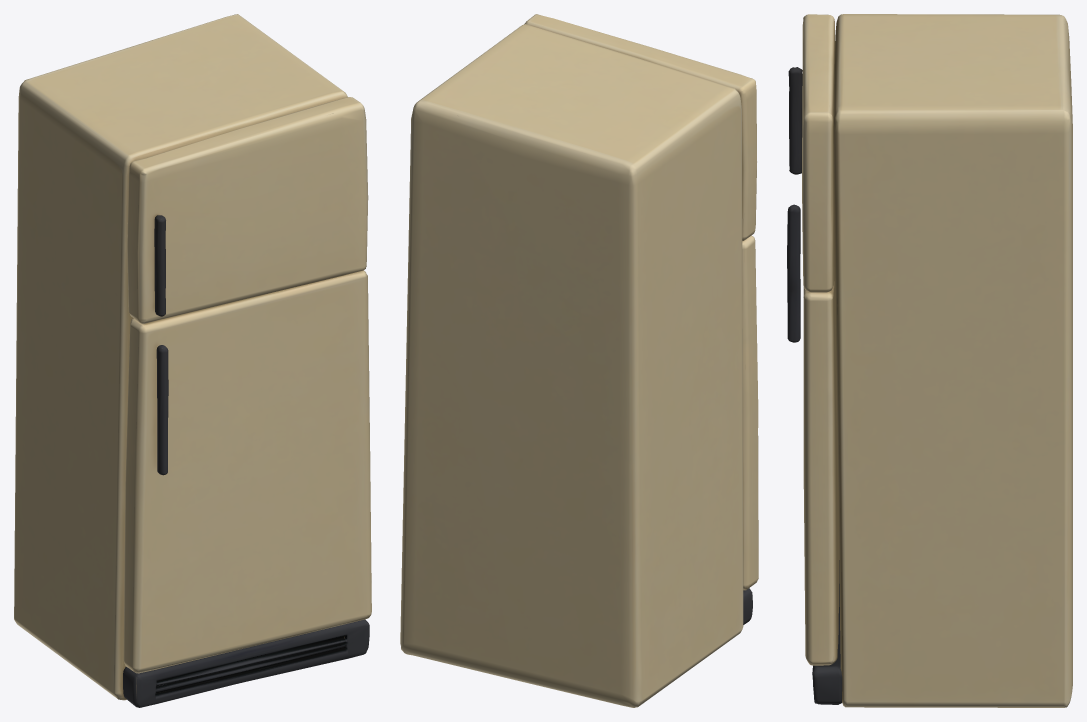
The model's file is apartment-fridge.glb.
3 views of the same model, side by side, from view 1: azimuth 30°, elevation 25°; view 2: azimuth 150°, elevation 25°; view 3: azimuth 270°, elevation 25° (orthographic). The views are drawn at different scales.
Visible parts, largest first — view 1: geometry_0; view 2: geometry_0; view 3: geometry_0.
Boxes of the visible parts, x1=… form: geometry_0: x1=14, y1=14, x2=371, y2=707; geometry_0: x1=400, y1=14, x2=758, y2=707; geometry_0: x1=787, y1=14, x2=1072, y2=707.
Size of the model in its own units: 0.4554 by 1 by 0.4377.
1 material, 1 textured.
